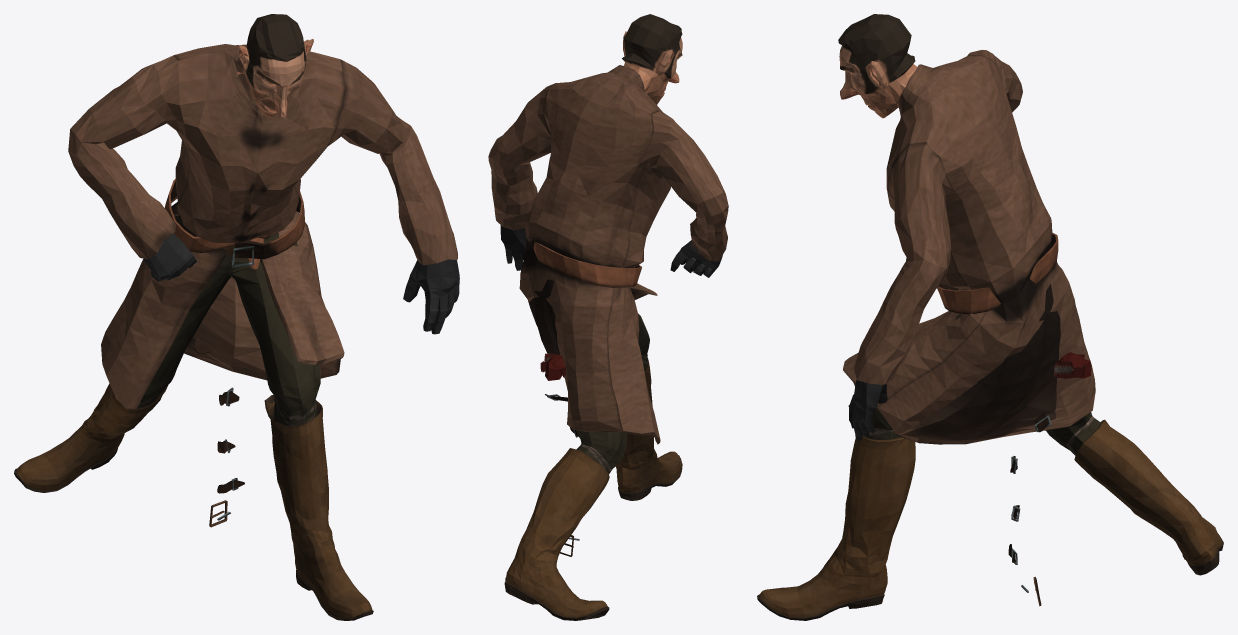
Rendered from sniper-inj-walk_joined_000007.obj.
The picture shows the model from 3 angles, left to right: view 1: azimuth 30°, elevation 25°; view 2: azimuth 150°, elevation 25°; view 3: azimuth 270°, elevation 25°; orthographic projection. The views are drawn at different scales.
Parts seen in each view (by area): view 1: Shoes; view 2: Shoes; view 3: Shoes.
Boxes of the visible parts, bbox=[...] form: Shoes: bbox=[14, 14, 459, 620]; Shoes: bbox=[488, 14, 728, 620]; Shoes: bbox=[757, 14, 1223, 620].
Bounding box in the file's own units: 1.34 × 2.28 × 1.67.
